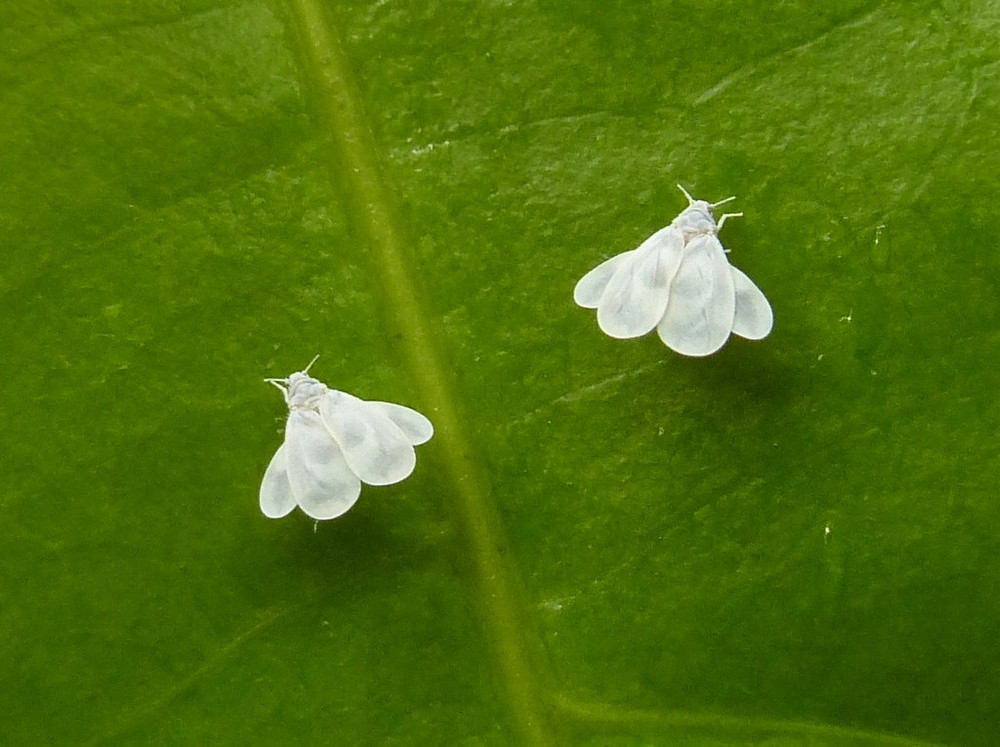Mosca Blanca: (546, 167, 799, 382), (235, 347, 455, 548)
